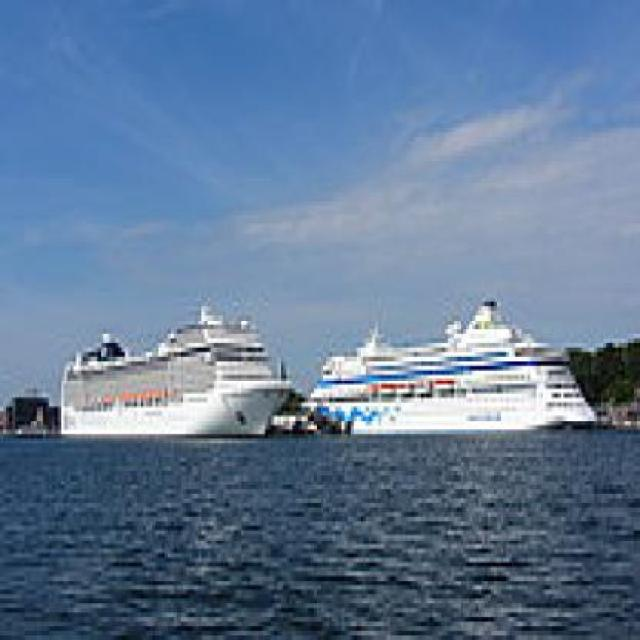cruise: (290, 289, 610, 463), (50, 298, 301, 449)
